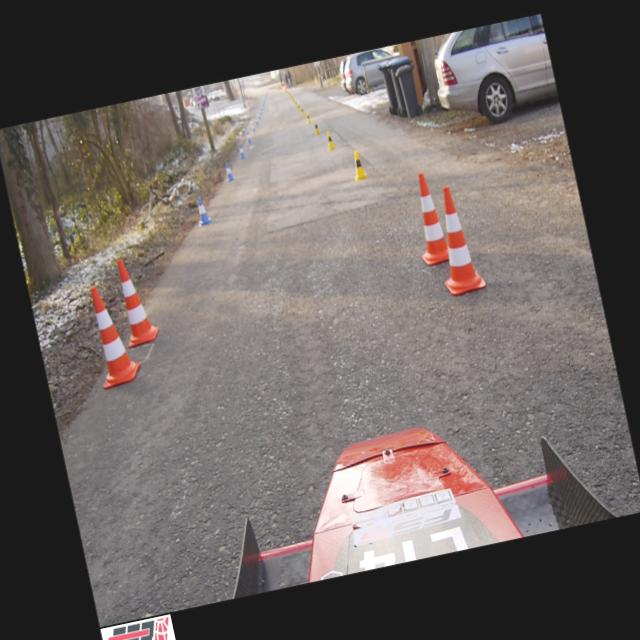blue_cone: (193, 195, 212, 225), (223, 160, 234, 182), (238, 144, 245, 158), (246, 132, 252, 143), (250, 122, 256, 132), (255, 118, 258, 124), (258, 114, 260, 120), (259, 110, 262, 114), (260, 105, 262, 110)
large_orange_cone: (424, 182, 486, 296), (83, 281, 143, 389), (110, 254, 161, 347), (404, 170, 450, 266)
yellow_cone: (349, 149, 367, 180), (324, 130, 336, 150), (312, 120, 320, 134), (305, 111, 311, 123), (300, 106, 304, 115), (294, 100, 297, 106), (298, 104, 300, 111), (292, 97, 294, 102)
